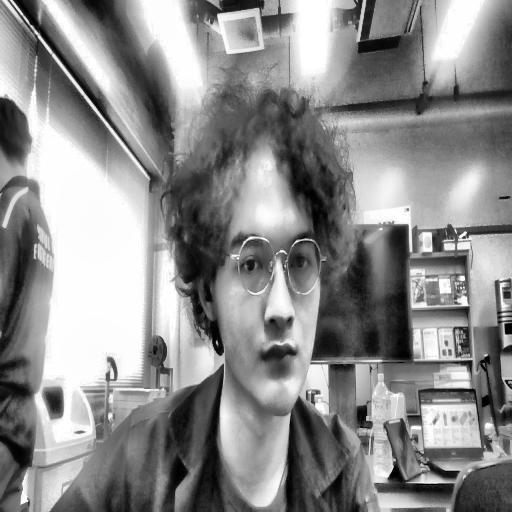Daifuku: (167, 91, 347, 412)
Not Daifuku: (0, 96, 35, 190)
